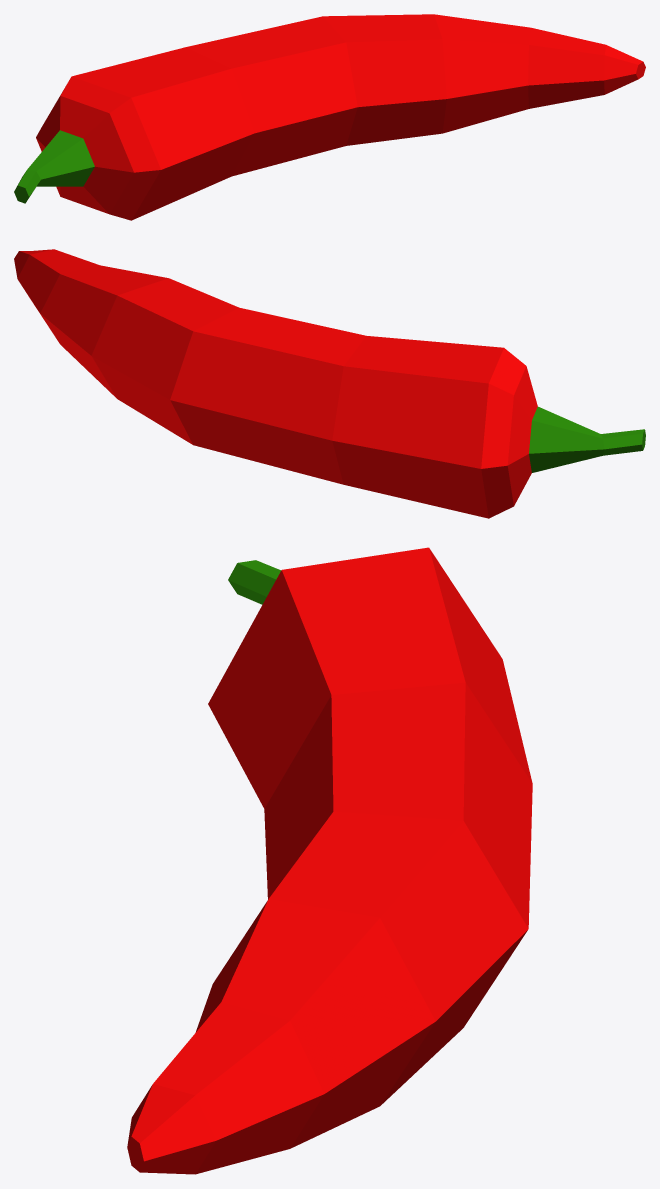
The model's file is pepperchili01.gltf.
The picture shows the model from 3 angles, top to bottom: view 1: azimuth 30°, elevation 25°; view 2: azimuth 150°, elevation 25°; view 3: azimuth 270°, elevation 25°; orthographic projection. The views are drawn at different scales.
Parts seen in each view (by area): view 1: Cylinder; view 2: Cylinder; view 3: Cylinder.
Boxes of the visible parts, <box> form: Cylinder: <box>14,14,645,220</box>; Cylinder: <box>14,249,645,518</box>; Cylinder: <box>127,547,532,1174</box>.
Size of the model in its own units: 0.1413 by 0.0276 by 0.0412.
1 material, 1 textured.
